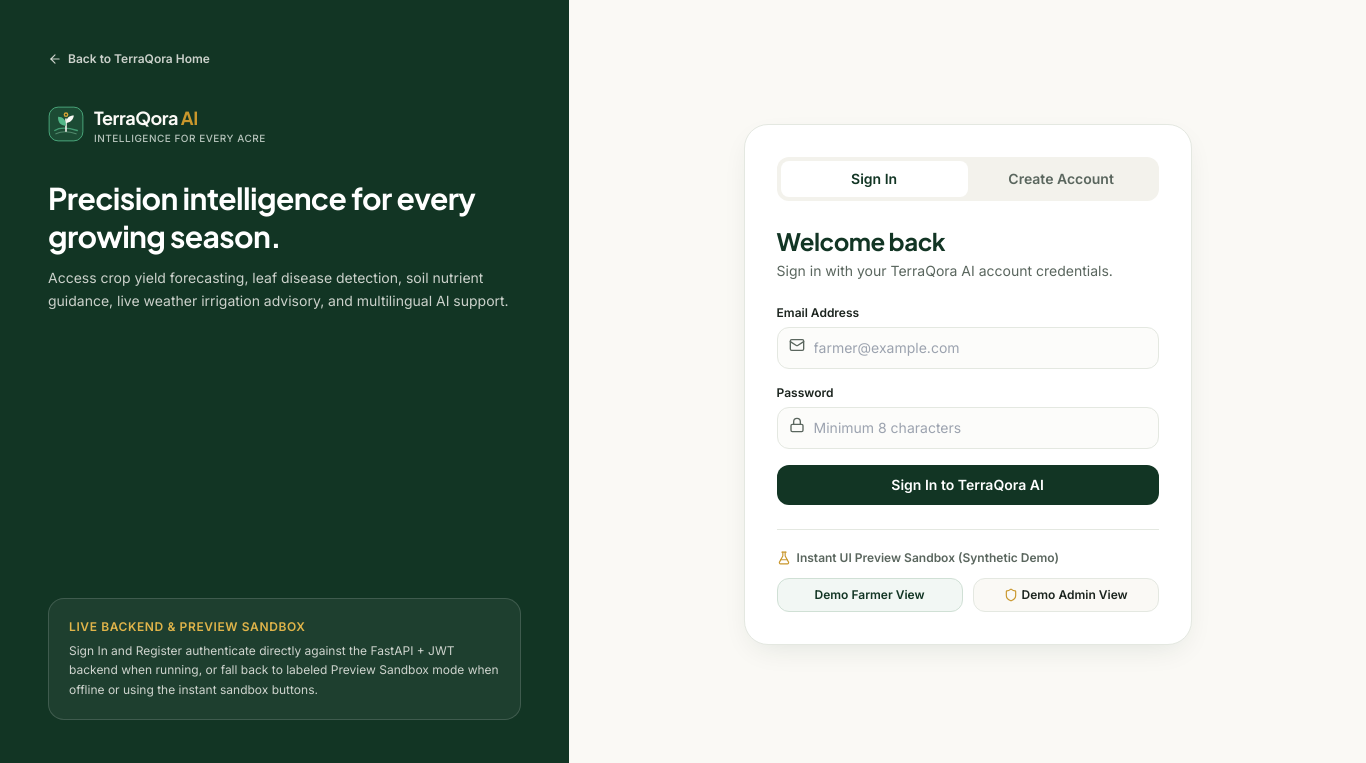
Scenario: TerraQora AI — Phase 3 Frontend Suite › redirects farmer accounts away from /admin back to /dashboard
Later steps or results of the test are not shown.
Click the button "Demo Farmer View" at (870, 594), box [777,578,963,612]
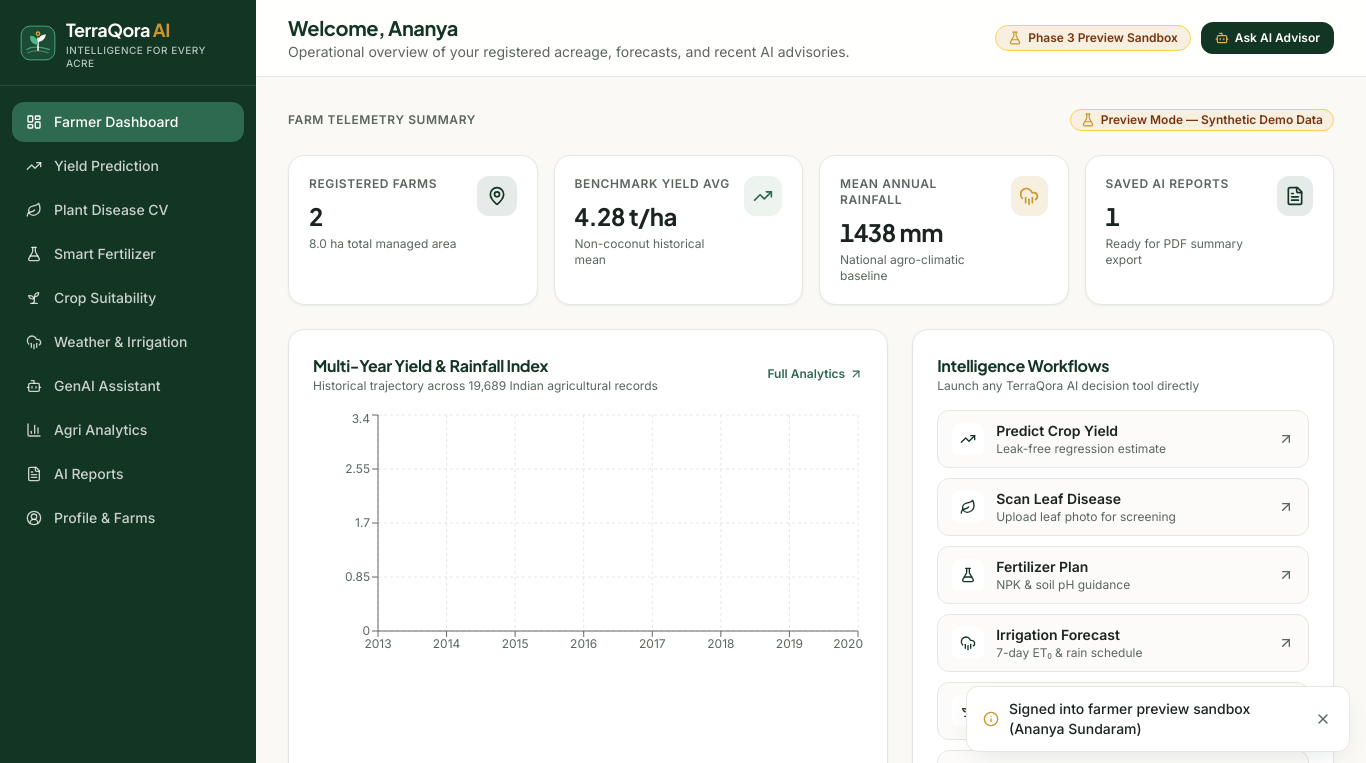
Result: the text "Farm Telemetry Summary" is shown at [288,112,476,128]
